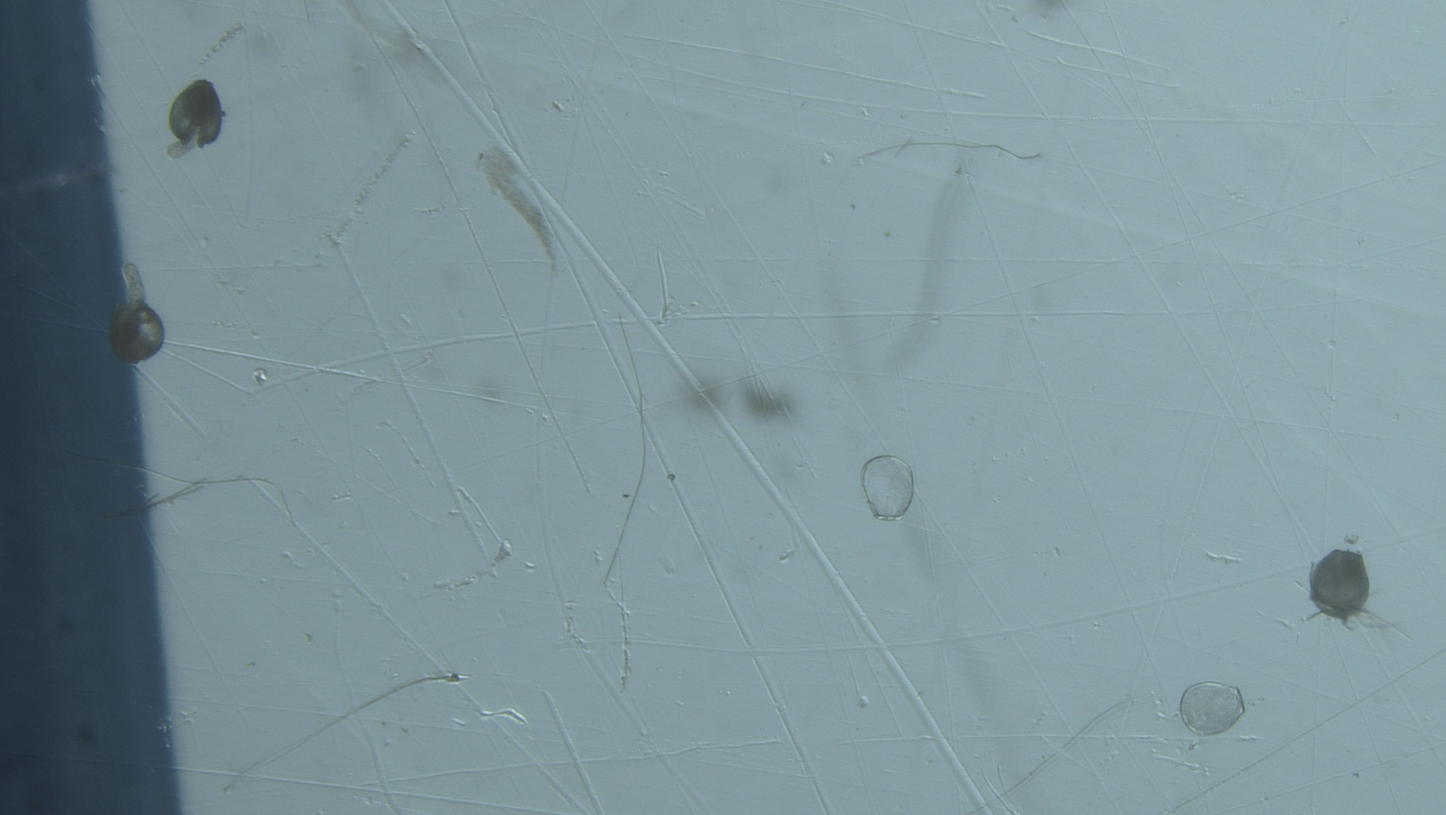dead: (861, 455, 915, 521), (1180, 683, 1246, 736)
live: (109, 263, 165, 365), (1310, 549, 1370, 626), (167, 79, 225, 158)
